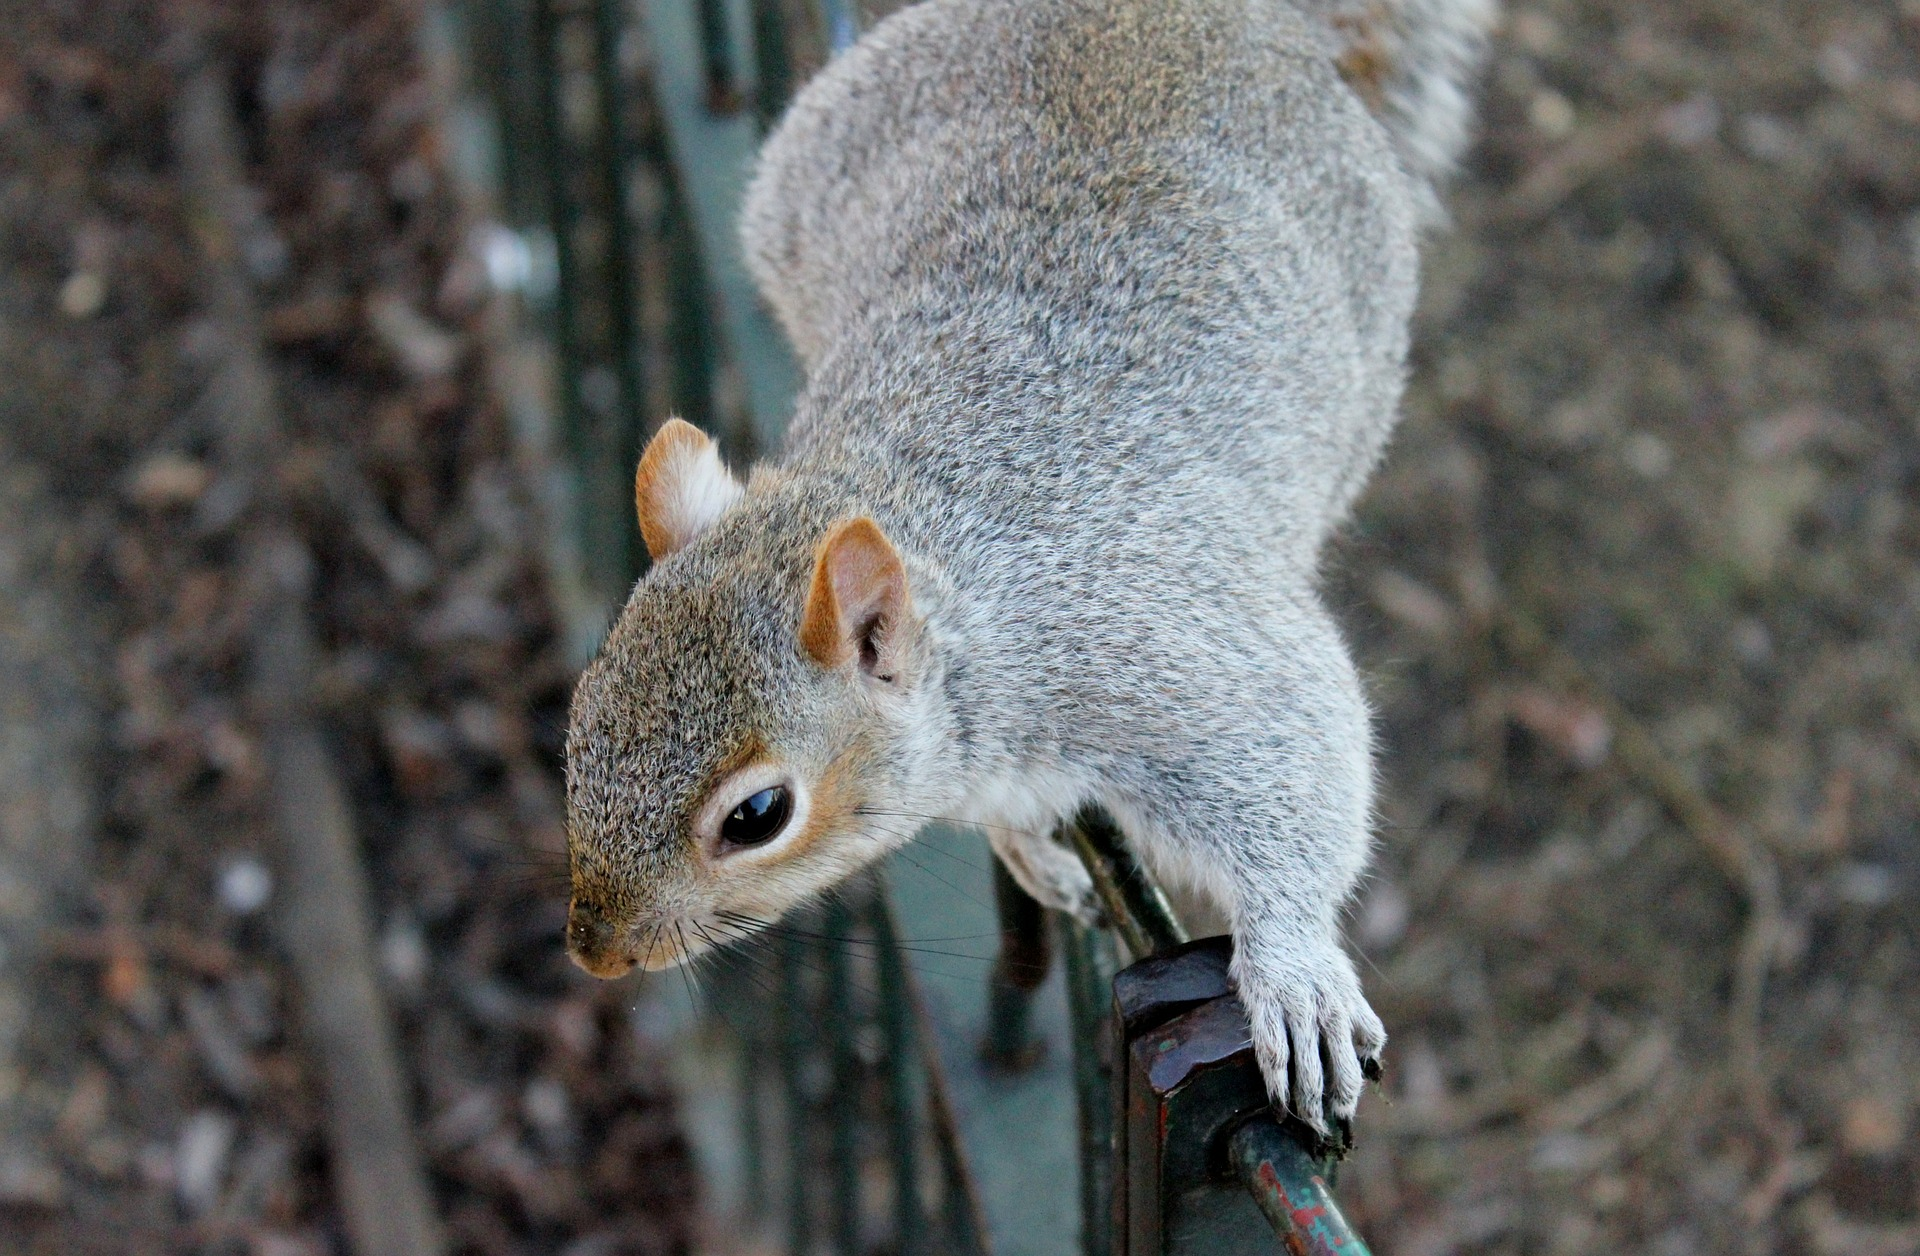squirrel: (554, 6, 1434, 1148)
